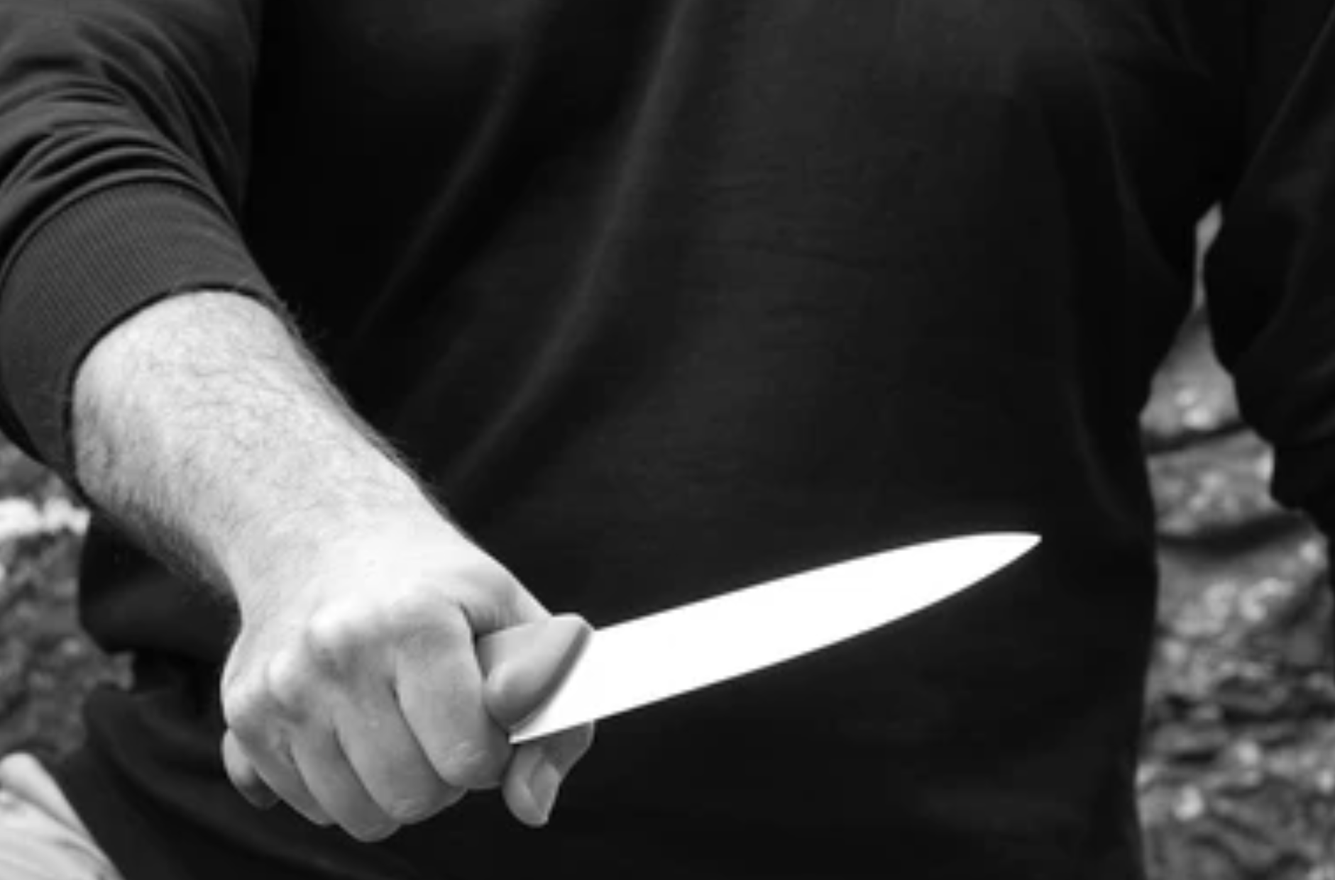knife_56.png: (461, 523, 1057, 747)
